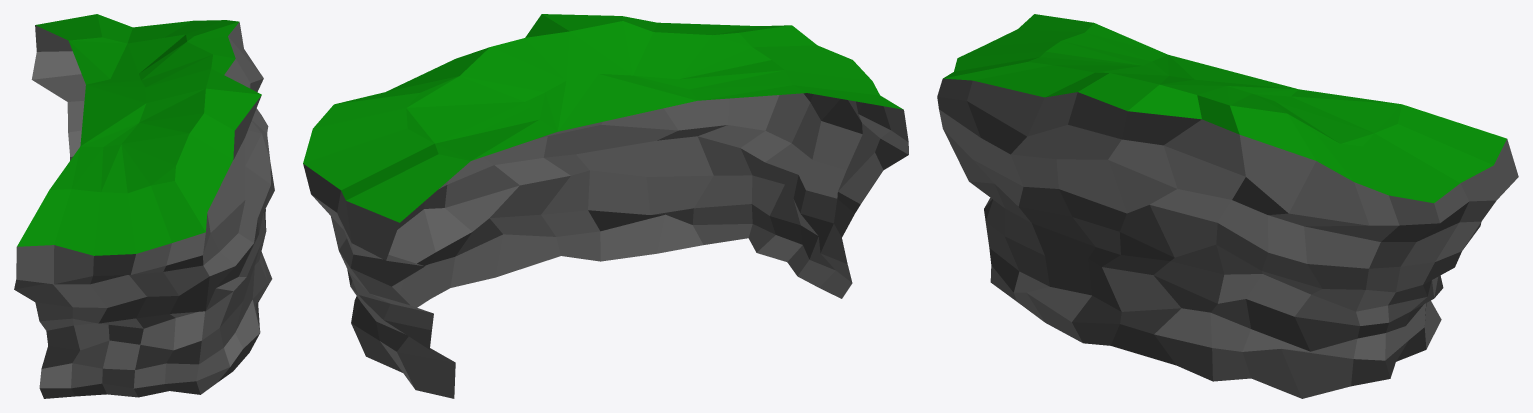
The model's file is huge_rock.obj.
3 renders of one model, left to right at view 1: azimuth 30°, elevation 25°; view 2: azimuth 150°, elevation 25°; view 3: azimuth 270°, elevation 25°, orthographic. The views are drawn at different scales.
Parts seen in each view (by area): view 1: Plane.005; view 2: Plane.005; view 3: Plane.005.
Boxes of the visible parts, x1,y1,x2,y2 form: Plane.005: (14,14,274,398); Plane.005: (303,14,908,398); Plane.005: (937,14,1518,398).
Size of the model in its own units: 26.91 by 16.43 by 32.81.
